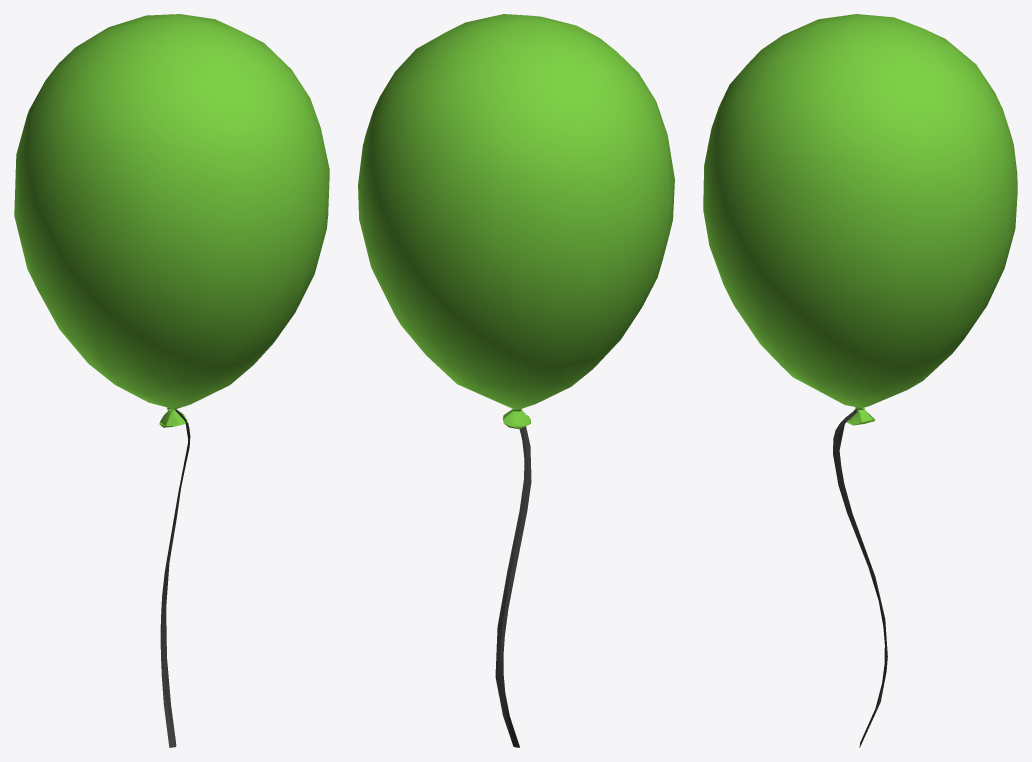
File: Ballong_24.glb
The picture shows the model from 3 angles, left to right: view 1: azimuth 30°, elevation 25°; view 2: azimuth 150°, elevation 25°; view 3: azimuth 270°, elevation 25°; orthographic projection.
Parts seen in each view (by area): view 1: Ballonger.053; view 2: Ballonger.053; view 3: Ballonger.053.
Boxes of the visible parts, bbox=[...] form: Ballonger.053: bbox=[14, 14, 329, 747]; Ballonger.053: bbox=[358, 14, 674, 747]; Ballonger.053: bbox=[703, 14, 1017, 747].
Size of the model in its own units: 0.3861 by 0.9686 by 0.3847.
